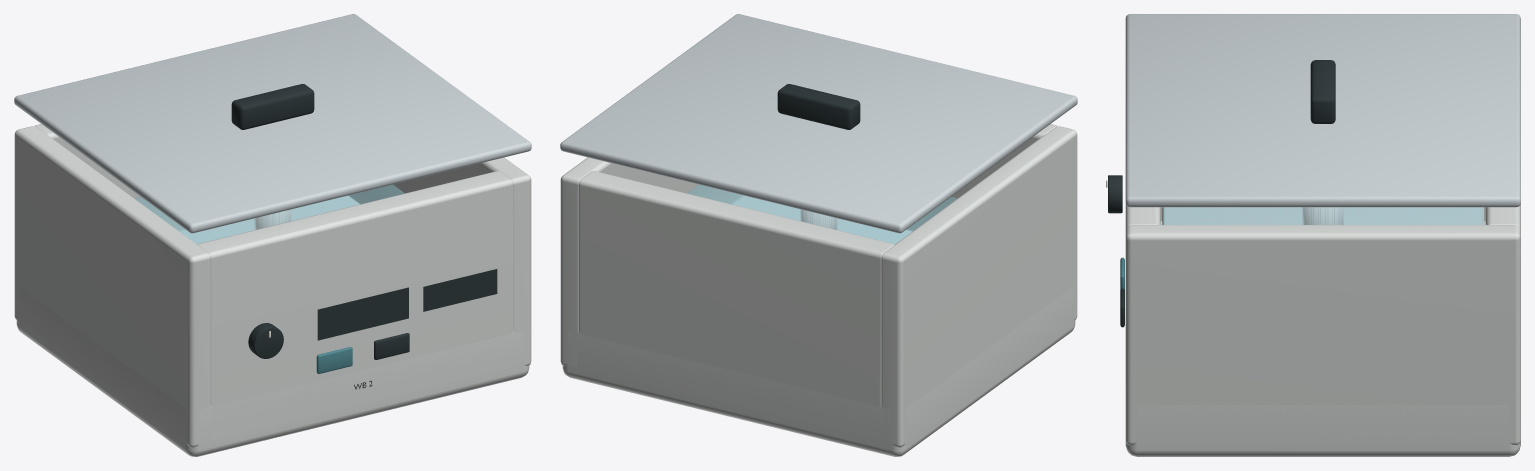
The model's file is preview.glb.
3 views of the same model, side by side, from view 1: azimuth 30°, elevation 25°; view 2: azimuth 150°, elevation 25°; view 3: azimuth 270°, elevation 25° (orthographic). The views are drawn at different scales.
Visible parts, largest first — view 1: Chassis floor, Lift-up bath lid, Live LCD surface, Lid handle, Water charge, Bath floor, Live LCD surface.001, Encoder, Key, Key.001; view 2: Chassis floor, Lift-up bath lid, Lid handle, Water charge, Bath floor; view 3: Chassis floor, Lift-up bath lid, Bath floor, Water charge, Lid handle, Sample vessel, Inert sample charge, Encoder.
Part boxes in pixels (x1=…): Chassis floor: x1=14, y1=124, x2=531, y2=456; Lift-up bath lid: x1=14, y1=14, x2=531, y2=233; Live LCD surface: x1=317, y1=287, x2=408, y2=340; Lid handle: x1=231, y1=84, x2=314, y2=129; Water charge: x1=134, y1=184, x2=404, y2=243; Bath floor: x1=180, y1=196, x2=359, y2=243; Live LCD surface.001: x1=423, y1=269, x2=497, y2=311; Encoder: x1=248, y1=323, x2=283, y2=358; Key: x1=316, y1=347, x2=352, y2=373; Key.001: x1=374, y1=333, x2=409, y2=359; Chassis floor: x1=560, y1=124, x2=1077, y2=456; Lift-up bath lid: x1=560, y1=14, x2=1077, y2=233; Lid handle: x1=777, y1=84, x2=860, y2=129; Water charge: x1=687, y1=184, x2=957, y2=243; Bath floor: x1=732, y1=196, x2=911, y2=243; Chassis floor: x1=1125, y1=203, x2=1520, y2=456; Lift-up bath lid: x1=1125, y1=14, x2=1520, y2=207; Bath floor: x1=1162, y1=207, x2=1484, y2=224; Water charge: x1=1163, y1=207, x2=1482, y2=224; Lid handle: x1=1310, y1=60, x2=1335, y2=123; Sample vessel: x1=1302, y1=207, x2=1343, y2=224; Inert sample charge: x1=1304, y1=207, x2=1341, y2=224; Encoder: x1=1108, y1=175, x2=1122, y2=213.
Bounding box in the file's own units: 0.3 × 0.228 × 0.2833.
